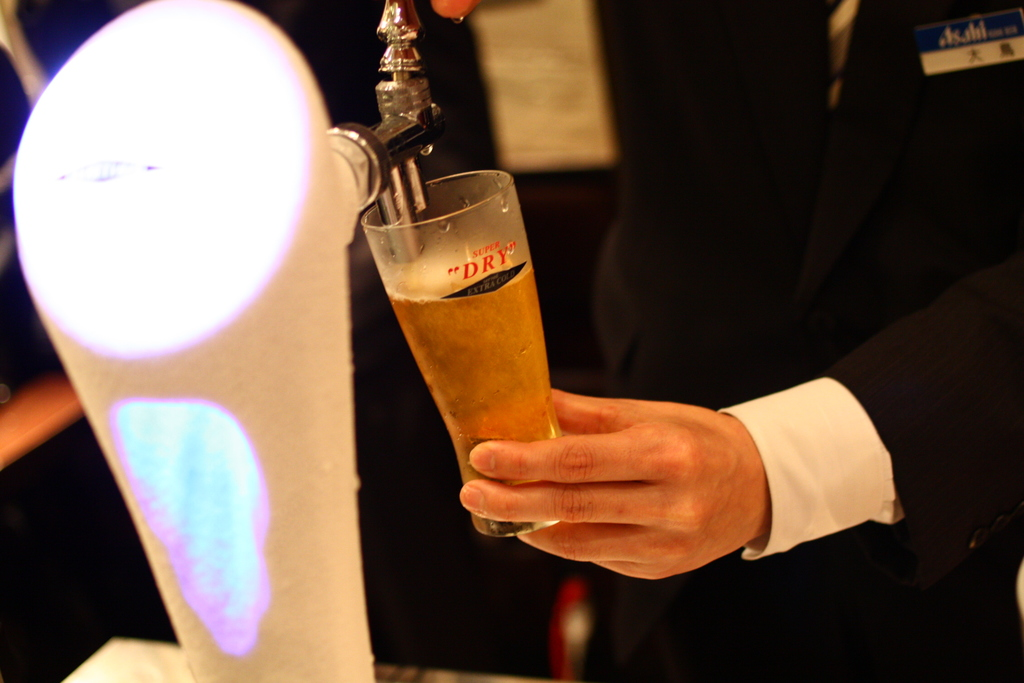Beer: (381, 261, 558, 524)
